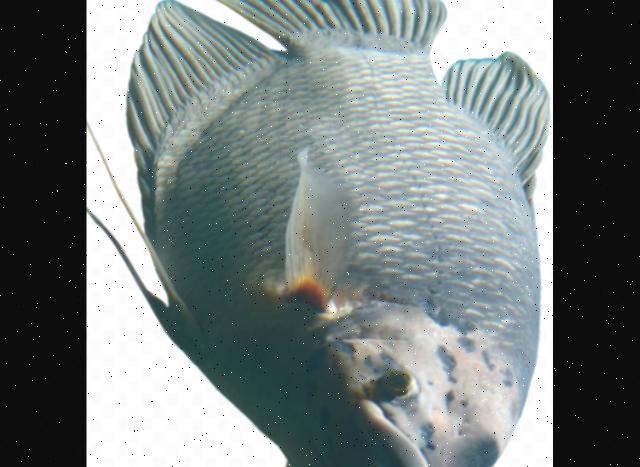Sirip Anal: (104, 0, 279, 233), (308, 364, 447, 467)
Sirip Dada: (264, 128, 363, 326)
Sirip Ekor: (185, 0, 460, 70)
Sirip Perut: (87, 90, 236, 403)
Sirip Punggung: (419, 28, 554, 221)
